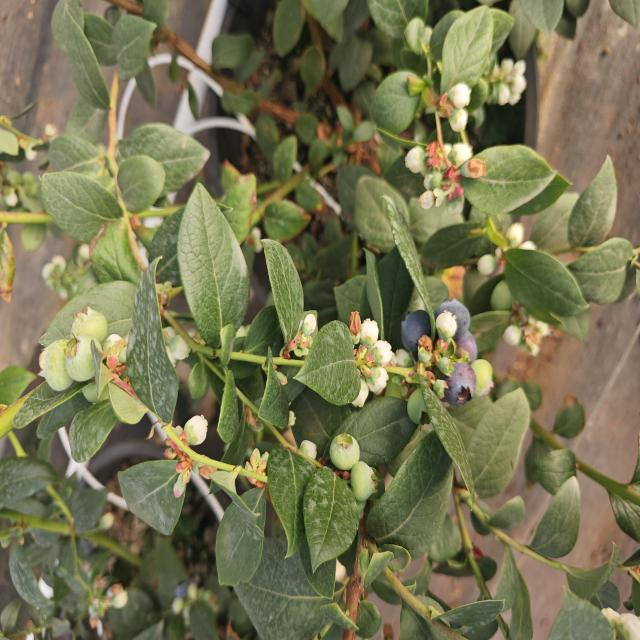ripe: (394, 306, 427, 356), (435, 295, 473, 336), (445, 365, 475, 406)
